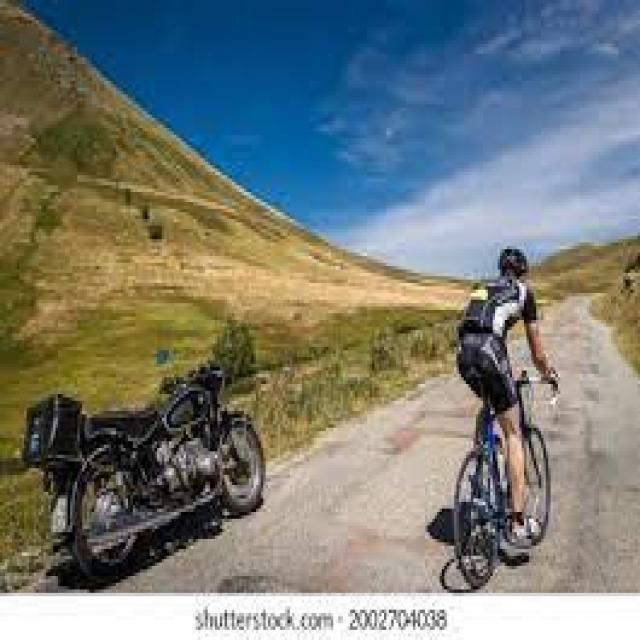Bike: (21, 346, 267, 586)
